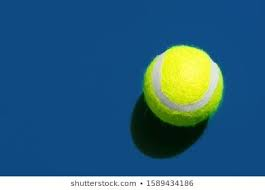tennis_ball: (142, 43, 225, 128)
